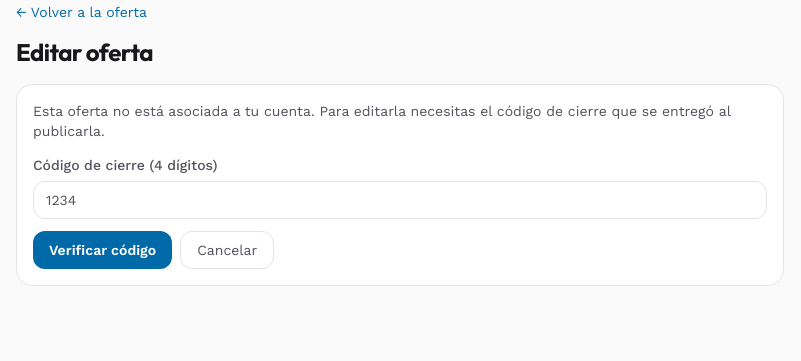
Test: OfferEditPage › muestra el error cuando el código verificado es incorrecto
Type "9999" into the field labelled "Código de cierre (4 dígitos)" at (400, 200), box [33,181,767,219]
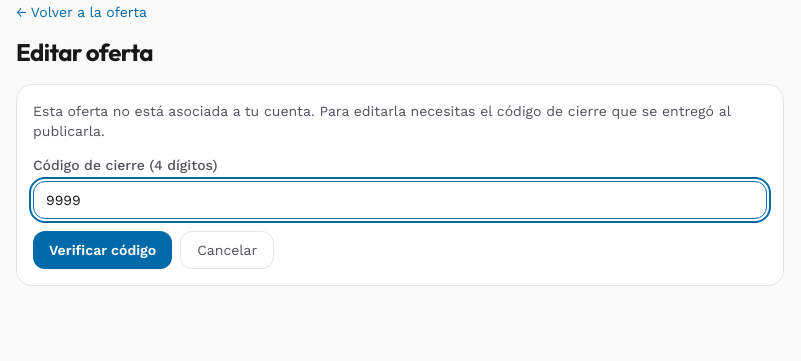
Click the button "Verificar código" at (103, 250), box [33,231,172,269]
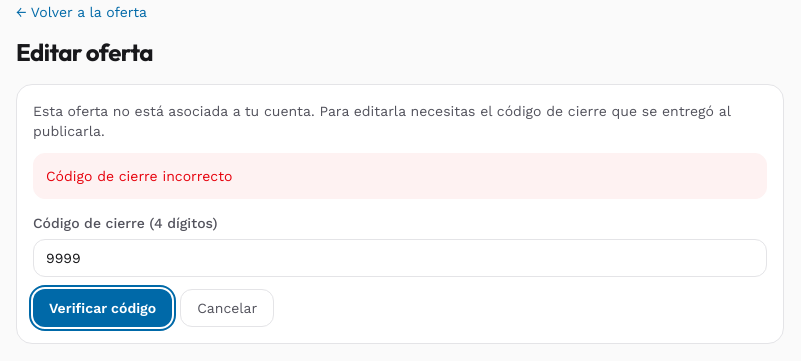
Expected: the message reads "Código de cierre incorrecto", [46,168,232,184]
